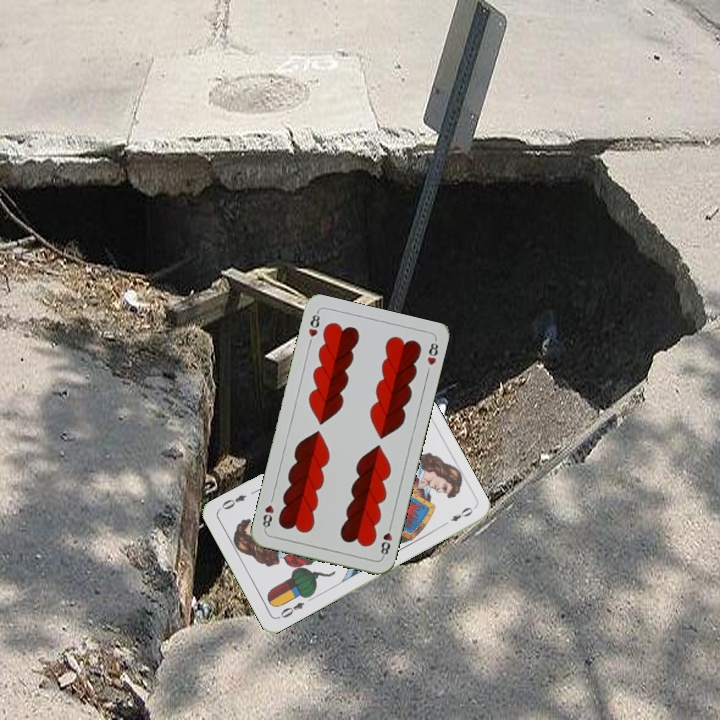EO: (274, 598, 307, 621)
H8: (376, 520, 395, 560), (304, 308, 322, 340)
